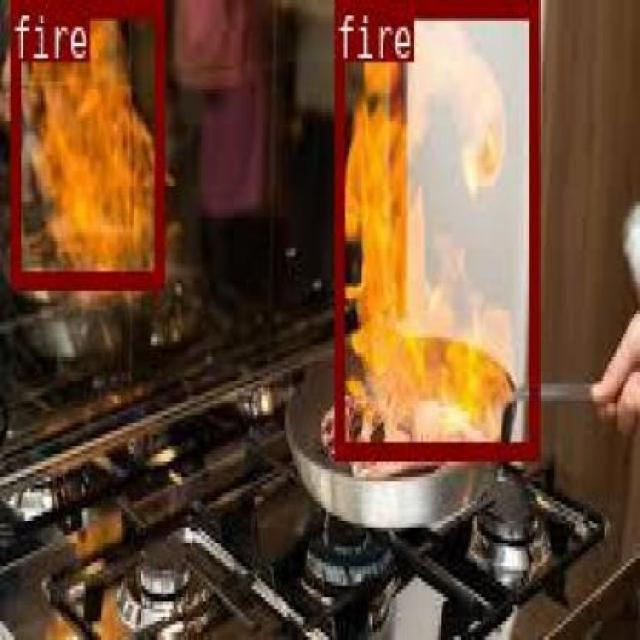Fire: (340, 13, 522, 458), (17, 0, 157, 300)
